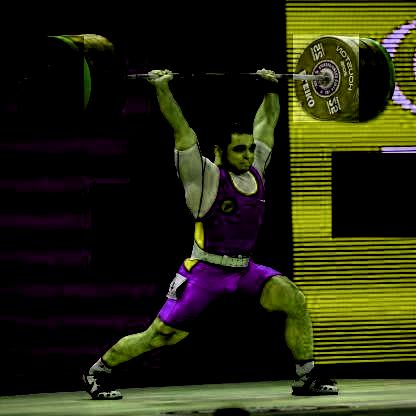barbell: (18, 36, 82, 128), (290, 35, 356, 122)
